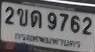letters: (16, 9, 28, 27), (30, 10, 42, 28), (5, 6, 15, 24), (70, 15, 80, 33), (82, 17, 92, 35), (48, 12, 57, 30), (60, 13, 69, 31)
province: (15, 33, 80, 48)
